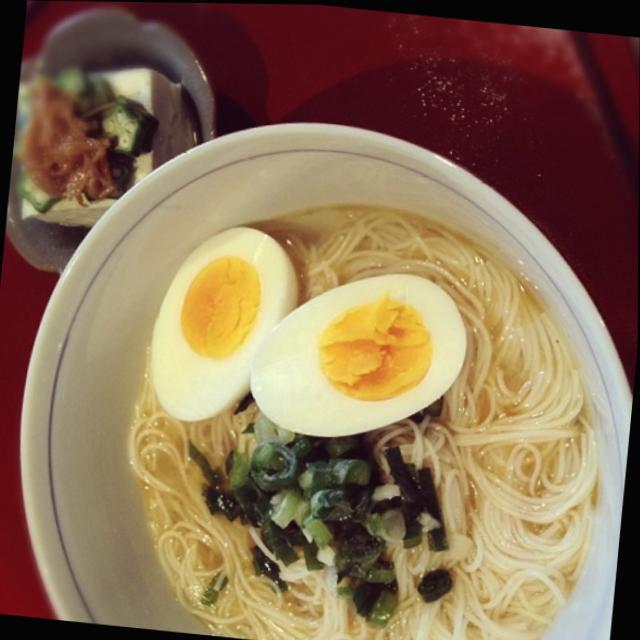面条主食: (0, 101, 639, 640)
